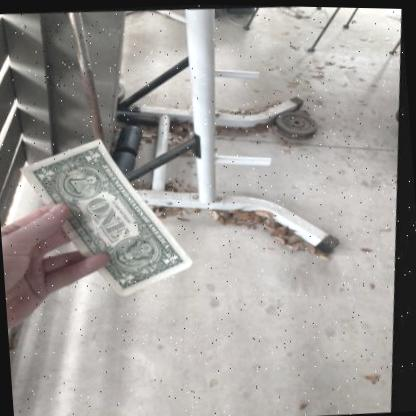one-back: (23, 138, 201, 297)
